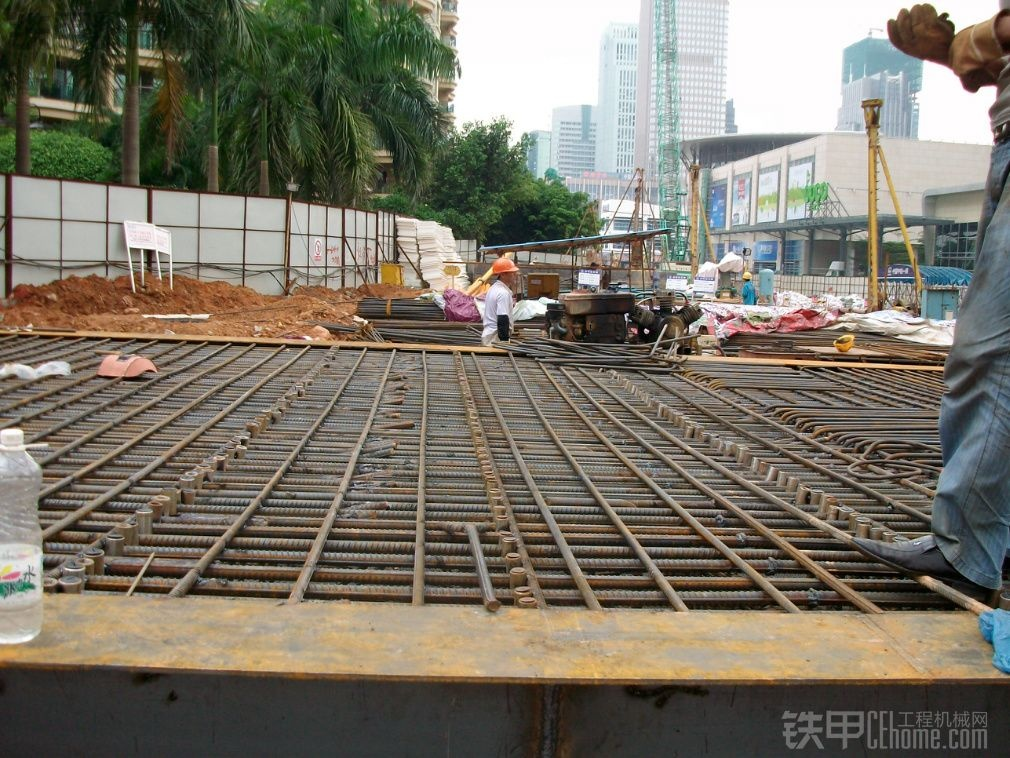red: (493, 257, 519, 283)
yellow: (741, 270, 752, 283)
